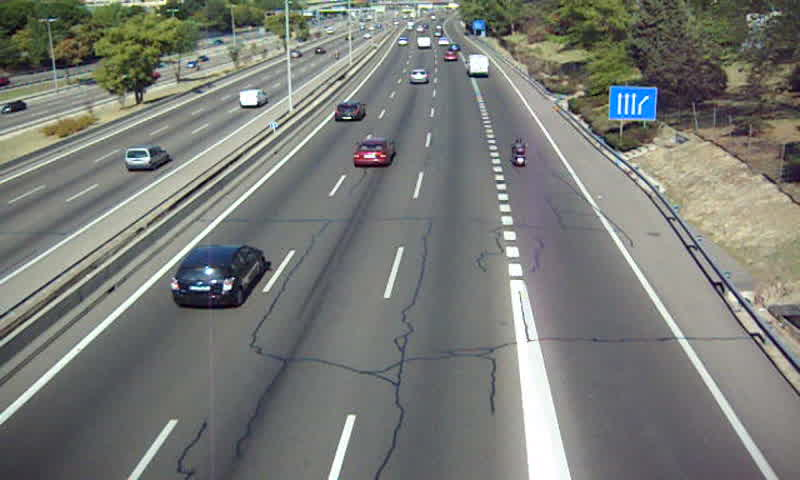car: (171, 244, 266, 307), (353, 137, 395, 167), (333, 100, 366, 120), (407, 69, 427, 84), (440, 50, 459, 63), (395, 36, 408, 45)
motorcycle: (508, 137, 530, 169)
van: (468, 54, 491, 79), (417, 37, 430, 48)
